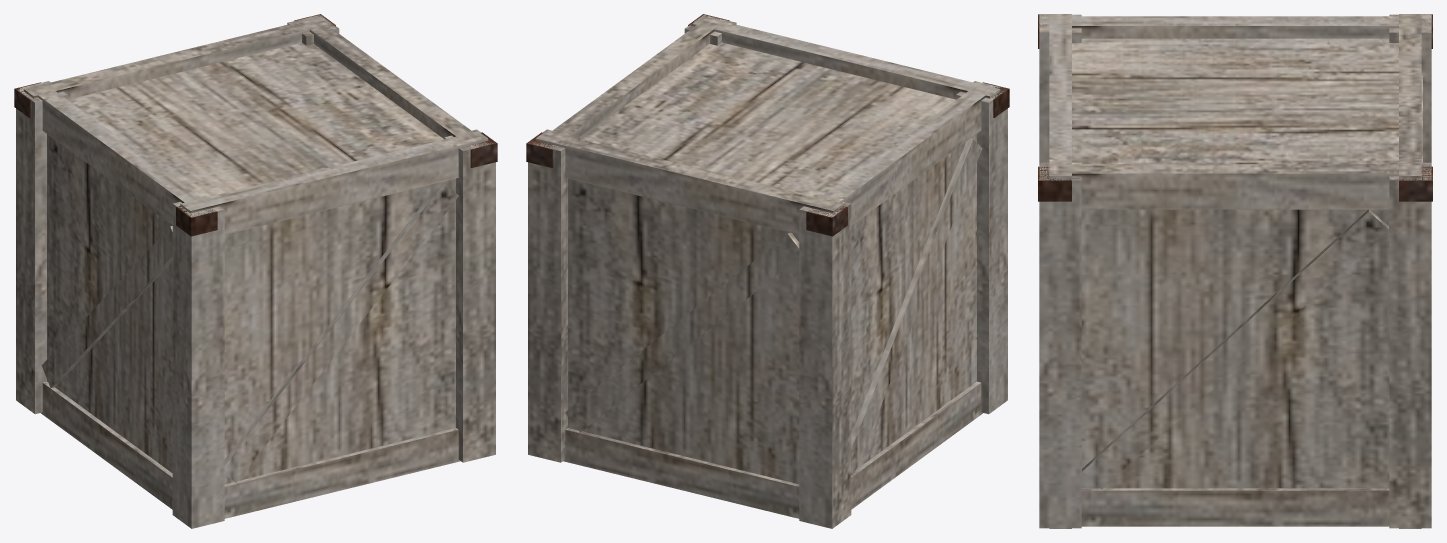
Rendered from wooden_crate_tex.glb.
3 views of the same model, side by side, from view 1: azimuth 30°, elevation 25°; view 2: azimuth 150°, elevation 25°; view 3: azimuth 270°, elevation 25° (orthographic). The views are drawn at different scales.
Parts seen in each view (by area): view 1: wooden_crate; view 2: wooden_crate; view 3: wooden_crate.
Part boxes in pixels (box(x1,y1,x2,y2)): wooden_crate: box(14, 14, 497, 528); wooden_crate: box(526, 14, 1009, 528); wooden_crate: box(1038, 14, 1432, 528).
Bounding box in the file's own units: 0.7 × 0.69 × 0.7.
1 material, 1 textured.
